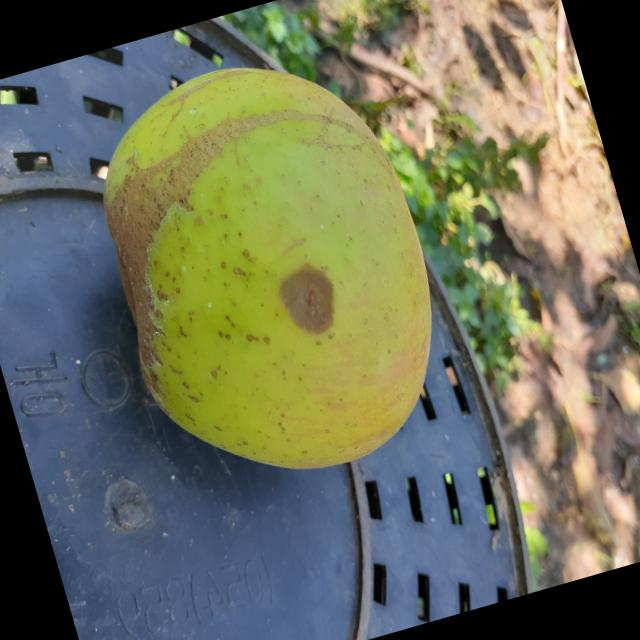rotten: (61, 23, 483, 522)
